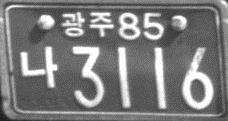1: (115, 45, 134, 110), (152, 46, 168, 111)
3: (70, 44, 105, 108)
5: (142, 11, 165, 42)
6: (179, 46, 215, 111)
8: (116, 11, 140, 40)
광주_O: (60, 10, 114, 39)
나: (18, 44, 58, 90)
